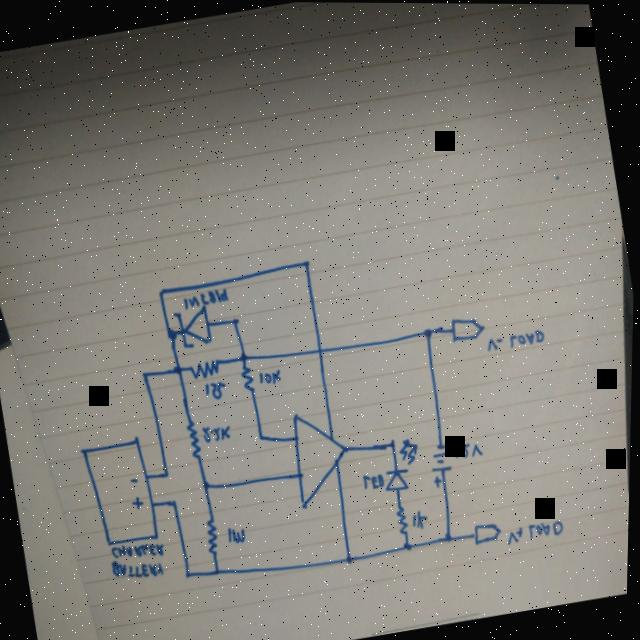crossover: (315, 344, 327, 356)
diode: (378, 435, 428, 493), (173, 305, 214, 350)
junction: (444, 529, 459, 547), (422, 325, 435, 342), (166, 326, 179, 342), (173, 362, 186, 377), (403, 539, 416, 553), (346, 552, 358, 567), (202, 477, 214, 491), (386, 439, 399, 451), (155, 286, 168, 298), (239, 350, 251, 363), (230, 314, 242, 327), (171, 497, 181, 509), (302, 257, 312, 269), (215, 566, 225, 577), (141, 369, 151, 380), (258, 431, 267, 442), (164, 470, 173, 480), (186, 571, 195, 580)
resistor: (204, 517, 226, 558), (190, 357, 223, 382), (186, 420, 205, 460), (240, 361, 258, 396), (396, 504, 412, 535)
source: (80, 435, 165, 549), (427, 440, 459, 476)
terminal: (449, 312, 489, 344), (472, 518, 507, 547)
text: (111, 552, 170, 586), (506, 515, 568, 545), (485, 326, 547, 354), (113, 539, 169, 565), (183, 286, 231, 310), (202, 421, 236, 445), (453, 438, 487, 461), (226, 523, 251, 547), (205, 379, 230, 402), (258, 367, 285, 387), (412, 507, 433, 531), (362, 471, 387, 491)
